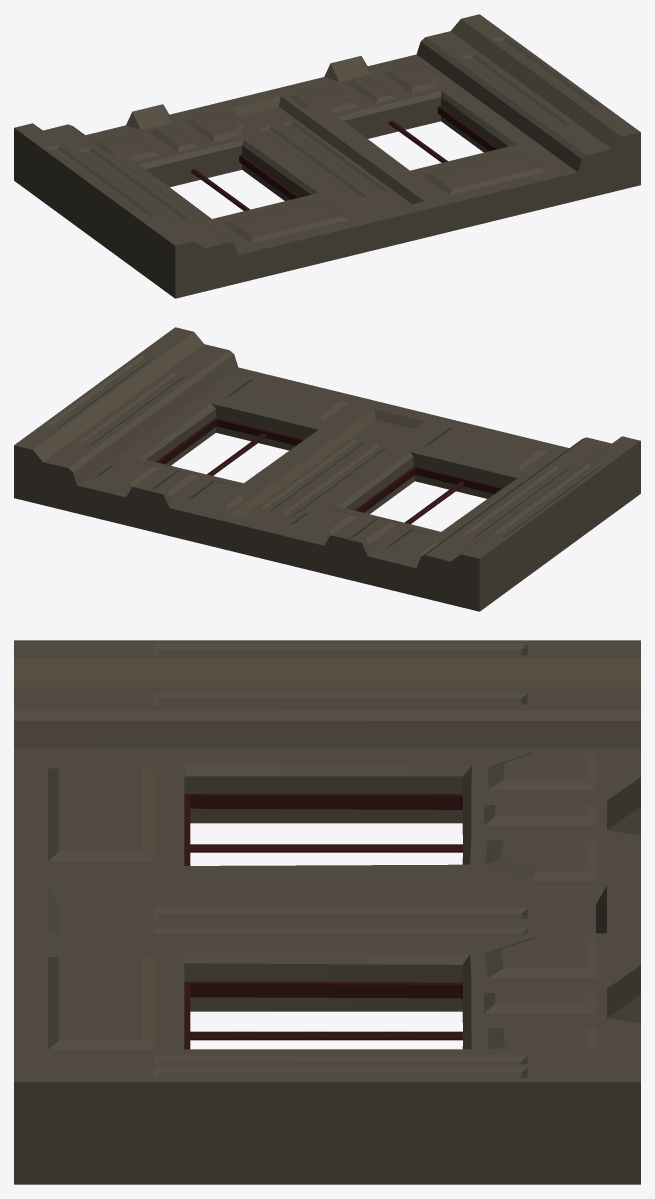
File: P_F_DoubleWCadreSimpleSansW.fbx
The picture shows the model from 3 angles, top to bottom: view 1: azimuth 30°, elevation 25°; view 2: azimuth 150°, elevation 25°; view 3: azimuth 270°, elevation 25°; orthographic projection. The views are drawn at different scales.
Parts seen in each view (by area): view 1: P_F_DoubleWCadreSimpleSansW; view 2: P_F_DoubleWCadreSimpleSansW; view 3: P_F_DoubleWCadreSimpleSansW.
Part boxes in pixels (bbox=[...]): P_F_DoubleWCadreSimpleSansW: bbox=[14, 14, 640, 298]; P_F_DoubleWCadreSimpleSansW: bbox=[14, 327, 640, 611]; P_F_DoubleWCadreSimpleSansW: bbox=[14, 640, 640, 1184].
Bounding box in the file's own units: 650 × 70.51 × 390.
